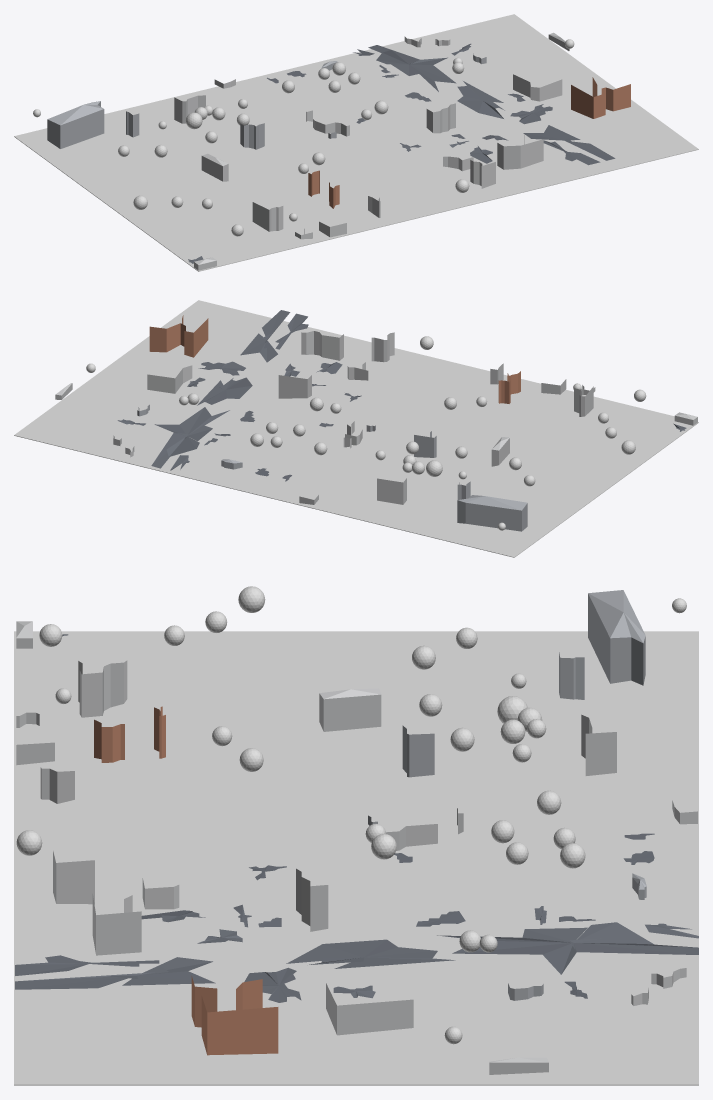
The picture shows the model from 3 angles, top to bottom: view 1: azimuth 30°, elevation 25°; view 2: azimuth 150°, elevation 25°; view 3: azimuth 270°, elevation 25°; orthographic projection. The views are drawn at different scales.
Parts seen in each view (by area): view 1: Ground_Base, Road_Corridors, B004, B017, B020, B013, B021, B016, B023, B012, B006, B014; view 2: Ground_Base, Road_Corridors, B004, B017, B020, B016, B013, B006, B023, B012, B021, B014; view 3: Ground_Base, Road_Corridors, B017, B004, B013, B014, B021, B020, B023, B006, B016, B012 (+7 smaller).
Part boxes in pixels (x1=…): Ground_Base: x1=14, y1=14, x2=698, y2=271; Road_Corridors: x1=188, y1=43, x2=615, y2=263; B004: x1=47, y1=101, x2=104, y2=148; B017: x1=571, y1=77, x2=630, y2=118; B020: x1=497, y1=134, x2=543, y2=169; B013: x1=513, y1=74, x2=562, y2=101; B021: x1=252, y1=202, x2=283, y2=231; B016: x1=426, y1=103, x2=455, y2=133; B023: x1=470, y1=160, x2=495, y2=188; B012: x1=240, y1=123, x2=264, y2=149; B006: x1=174, y1=95, x2=205, y2=123; B014: x1=201, y1=153, x2=228, y2=181; Ground_Base: x1=14, y1=300, x2=698, y2=557; Road_Corridors: x1=117, y1=310, x2=686, y2=481; B004: x1=457, y1=495, x2=527, y2=531; B017: x1=149, y1=315, x2=208, y2=357; B020: x1=301, y1=331, x2=343, y2=360; B016: x1=278, y1=375, x2=311, y2=398; B013: x1=147, y1=365, x2=192, y2=393; B006: x1=377, y1=478, x2=406, y2=504; B023: x1=371, y1=332, x2=394, y2=362; B012: x1=414, y1=431, x2=436, y2=457; B021: x1=574, y1=386, x2=593, y2=416; B014: x1=491, y1=437, x2=509, y2=466; Ground_Base: x1=14, y1=631, x2=698, y2=1085; Road_Corridors: x1=15, y1=634, x2=698, y2=1002; B017: x1=191, y1=976, x2=278, y2=1055; B004: x1=588, y1=590, x2=645, y2=685; B013: x1=326, y1=983, x2=413, y2=1035; B014: x1=319, y1=688, x2=381, y2=731; B021: x1=78, y1=660, x2=127, y2=717; B020: x1=92, y1=894, x2=141, y2=955; B023: x1=53, y1=851, x2=94, y2=904; B006: x1=581, y1=714, x2=616, y2=775; B016: x1=296, y1=868, x2=328, y2=931; B012: x1=402, y1=725, x2=434, y2=777.
Size of the model in its own units: 386 by 25.75 by 247.
